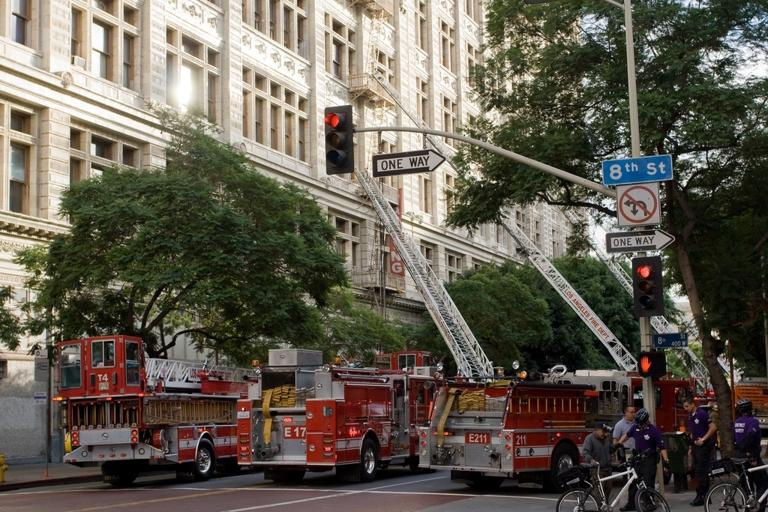non-vehicle: (555, 451, 670, 512), (702, 453, 768, 510)
